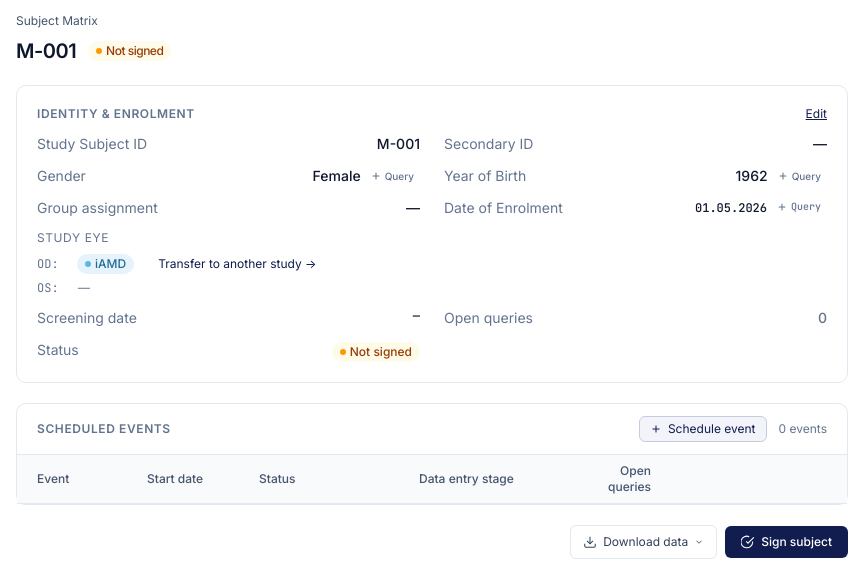
Test: SubjectDetailView — edit form study-eye field › cancelling the edit reverts an in-progress study-eye change
Click the button with class "underline": (816, 114) [806,106,827,122]
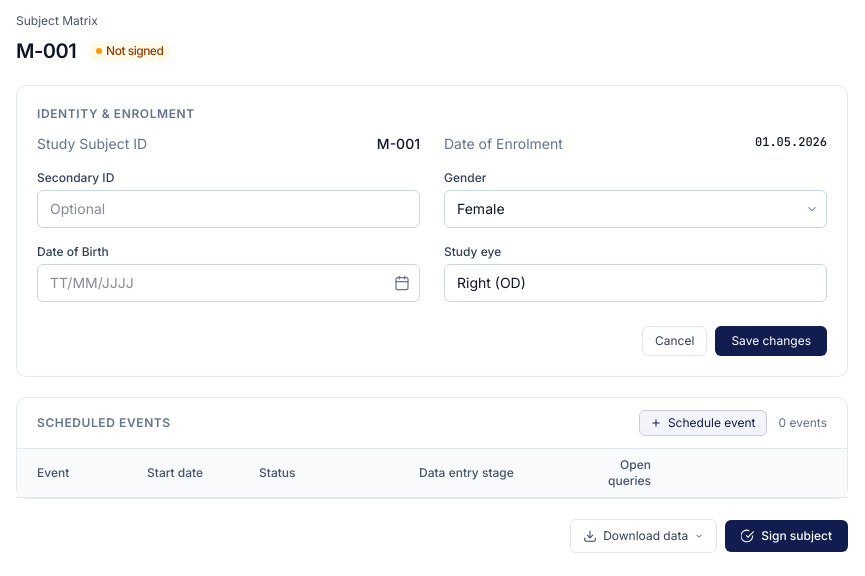
// Typed change to OU, then bail.
Select "Both (OU)" in the dropdown with test id "edit-study-eye": (636, 283) [444,264,827,302]
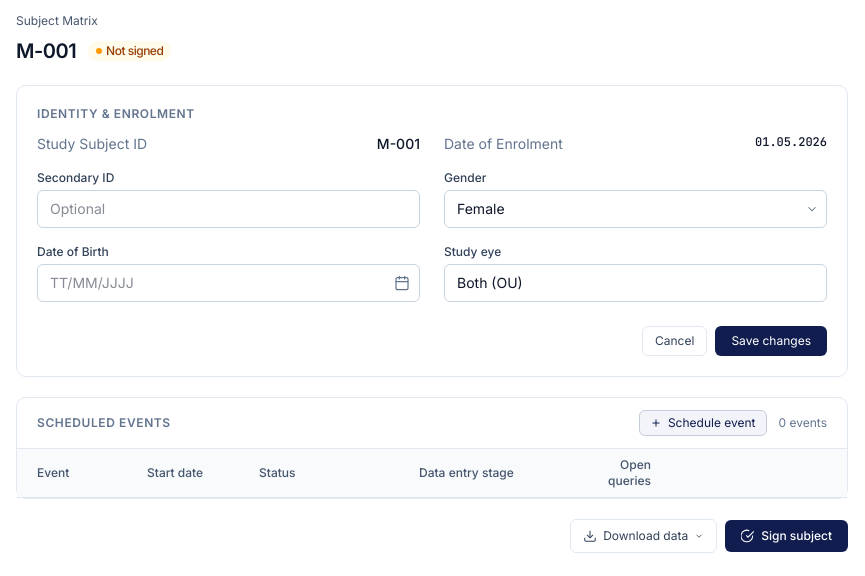
Check: the button "Cancel" is shown
Click the button "Cancel": (675, 341) [642,326,707,356]
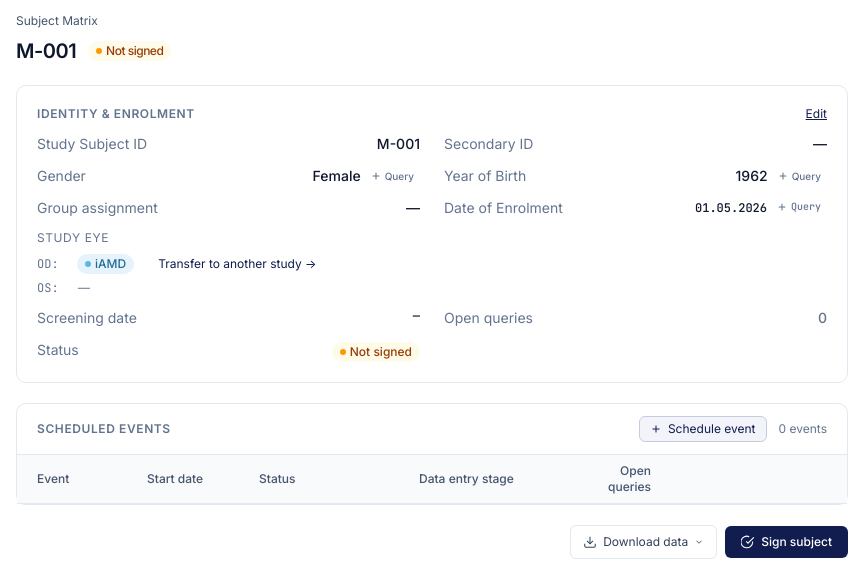
Click the button with class "underline": (816, 114) [806,106,827,122]
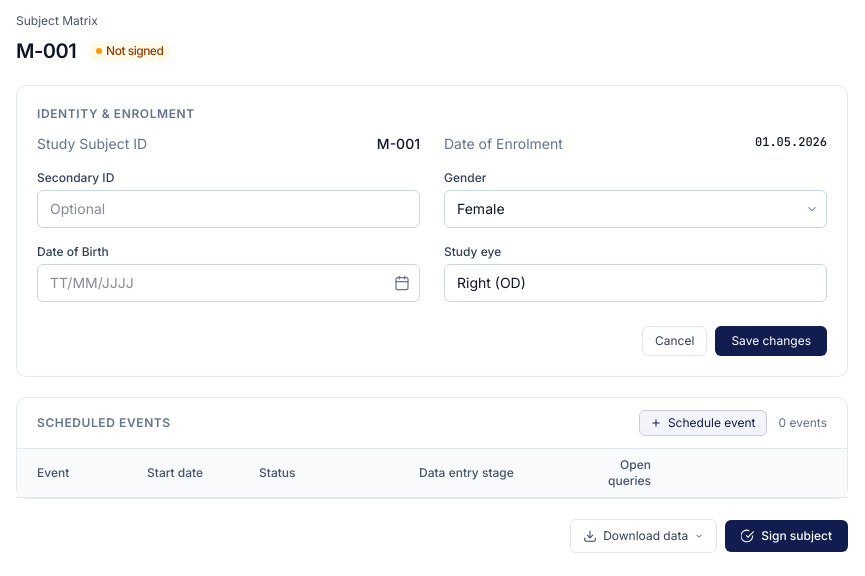
Check: the dropdown with test id "edit-study-eye" shows "Right (OD)", box [444,264,827,302]
